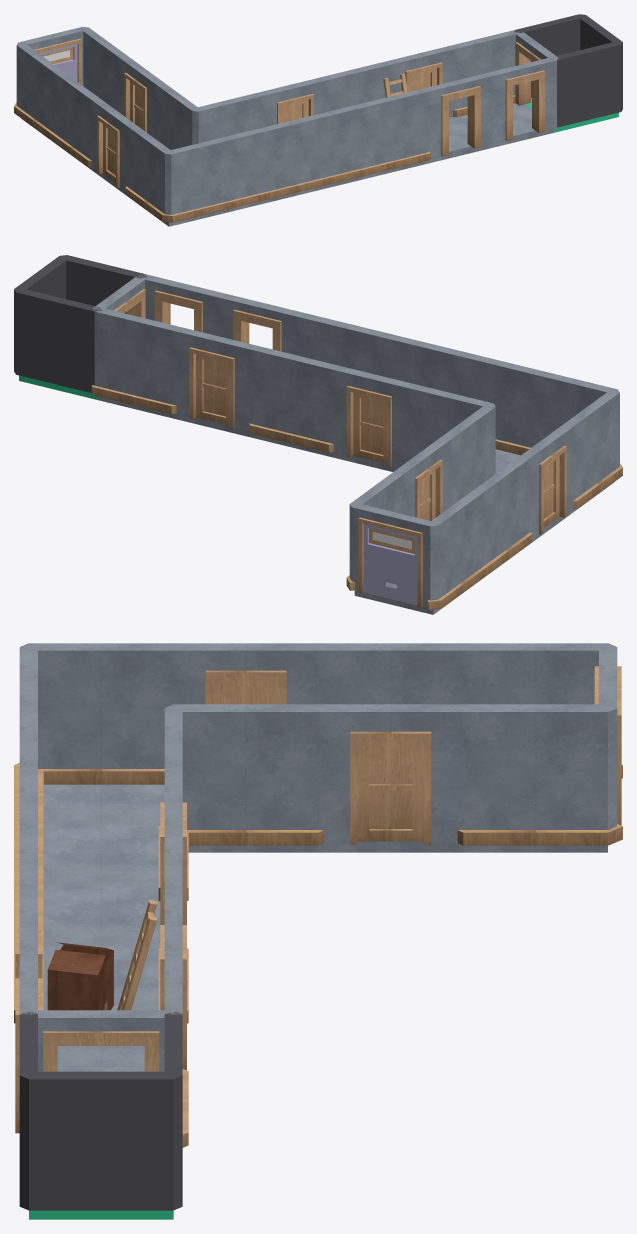
File: Level_0_2-Alt.fbx
3 views of the same model, one above another, from view 1: azimuth 30°, elevation 25°; view 2: azimuth 150°, elevation 25°; view 3: azimuth 270°, elevation 25° (orthographic). The views are drawn at different scales.
Visible parts, largest first — view 1: mergedBlocks; view 2: mergedBlocks; view 3: mergedBlocks.
Part boxes in pixels (x1,y1,x2,y2): mergedBlocks: (14, 14, 622, 226); mergedBlocks: (14, 255, 622, 614); mergedBlocks: (14, 643, 622, 1219).
Bounding box in the file's own units: 143 × 22 × 84.1.
Materials: 9 (5 with a texture image).
